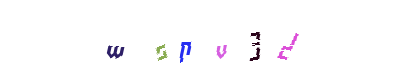3: (216, 0, 296, 80)
D: (216, 0, 296, 80)
P: (145, 0, 225, 80)
S: (125, 0, 205, 80)
V: (159, 0, 239, 80)
W: (86, 0, 166, 80)
